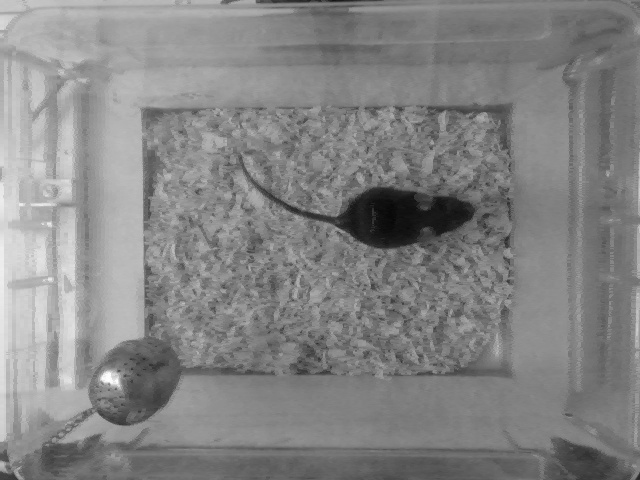mice: (235, 143, 482, 252)
